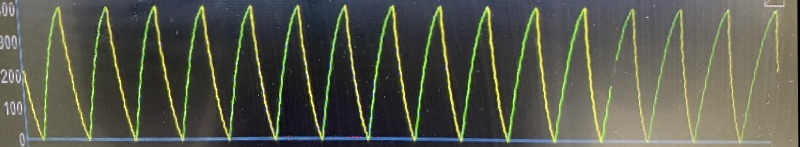normal_volume: (35, 2, 745, 146)
